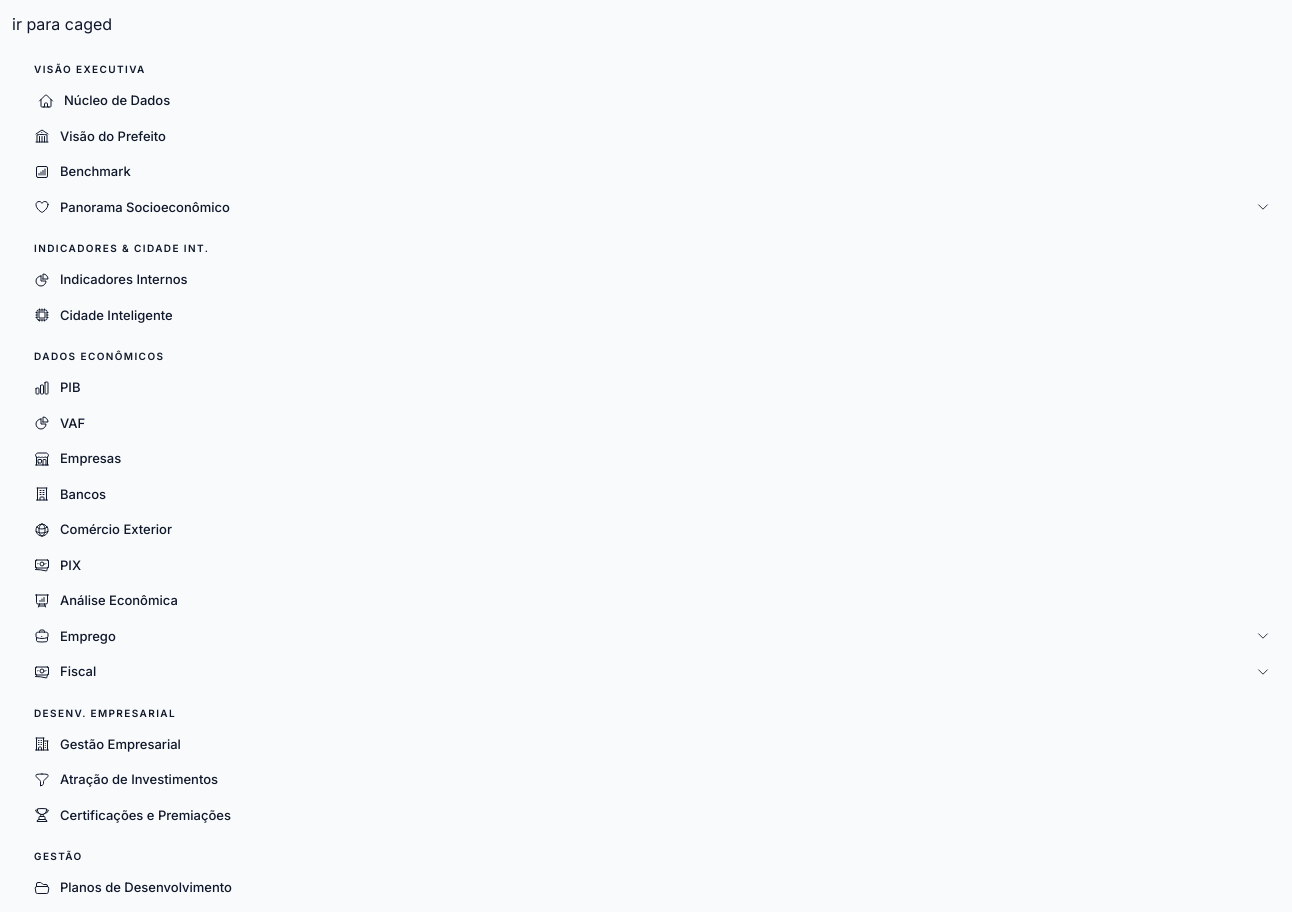
Test: SidebarNav — grupos colapsáveis › grupo abre automaticamente ao navegar depois do mount (ajuste de estado em render)
What coordinates should you click on to do the following:
click the link "ir para caged"
I would click on:
 (62, 24)
Its box is [12,14,112,34].
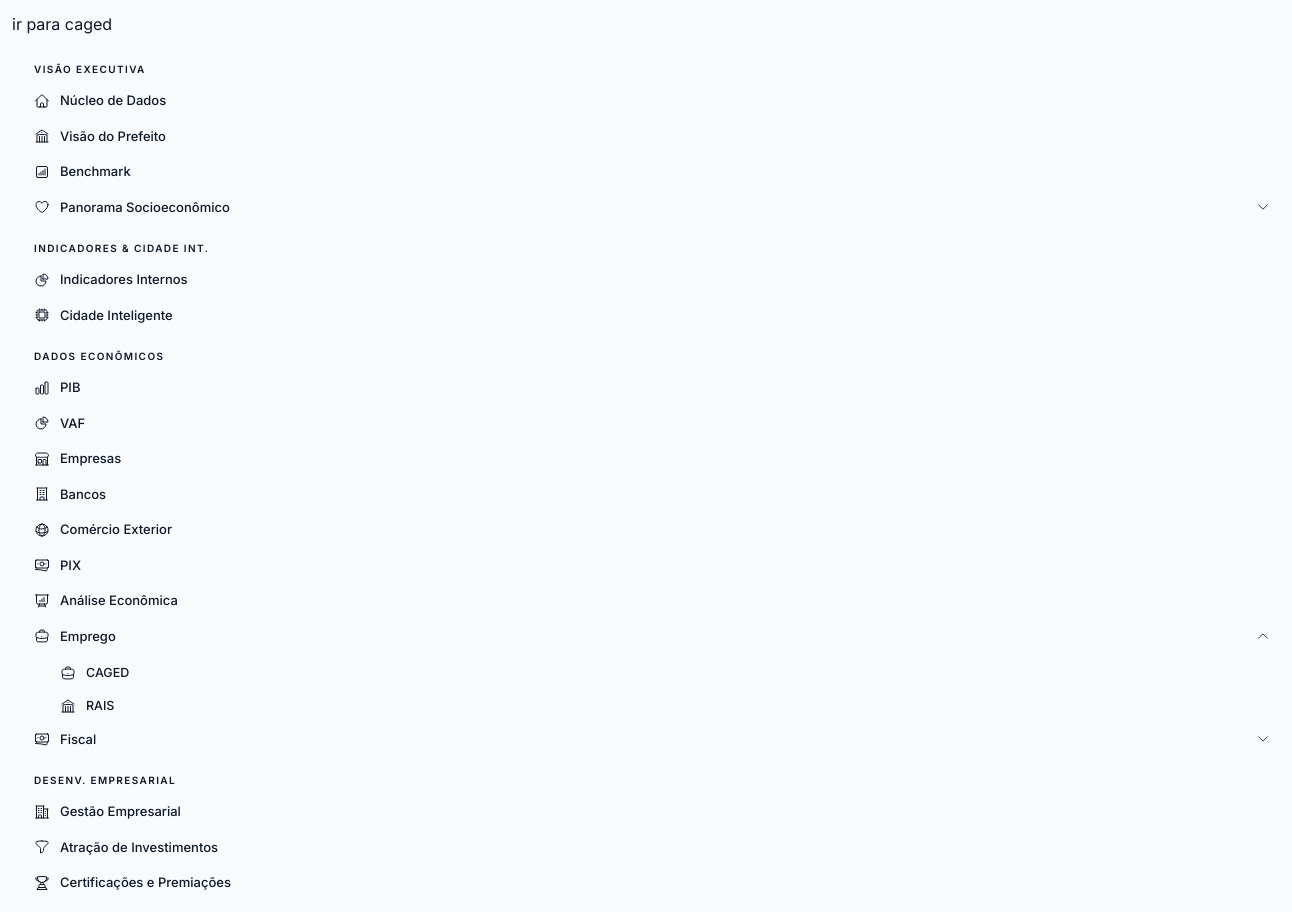
Check: the text "CAGED" is shown, box [86,665,129,680]
